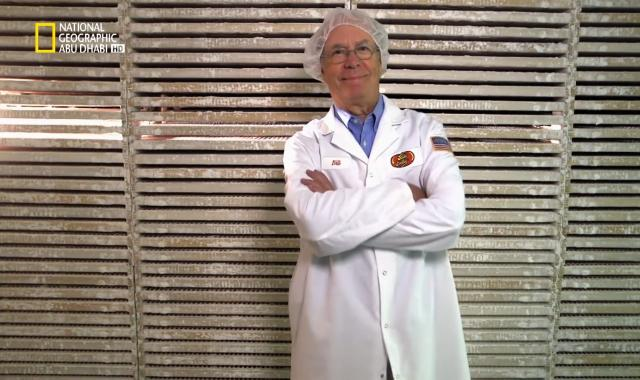hairnet: (309, 8, 392, 81)
